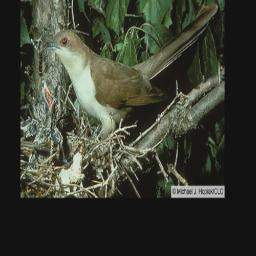Cuckoo: (42, 1, 218, 137)
